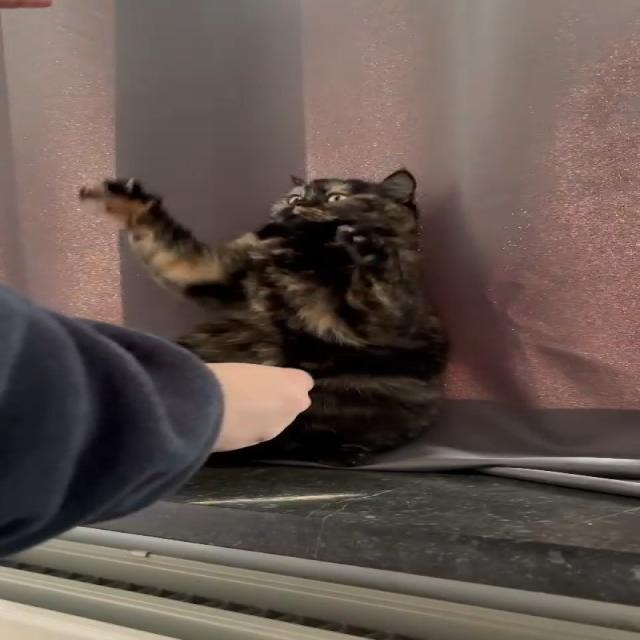authorized: (76, 167, 451, 468)
